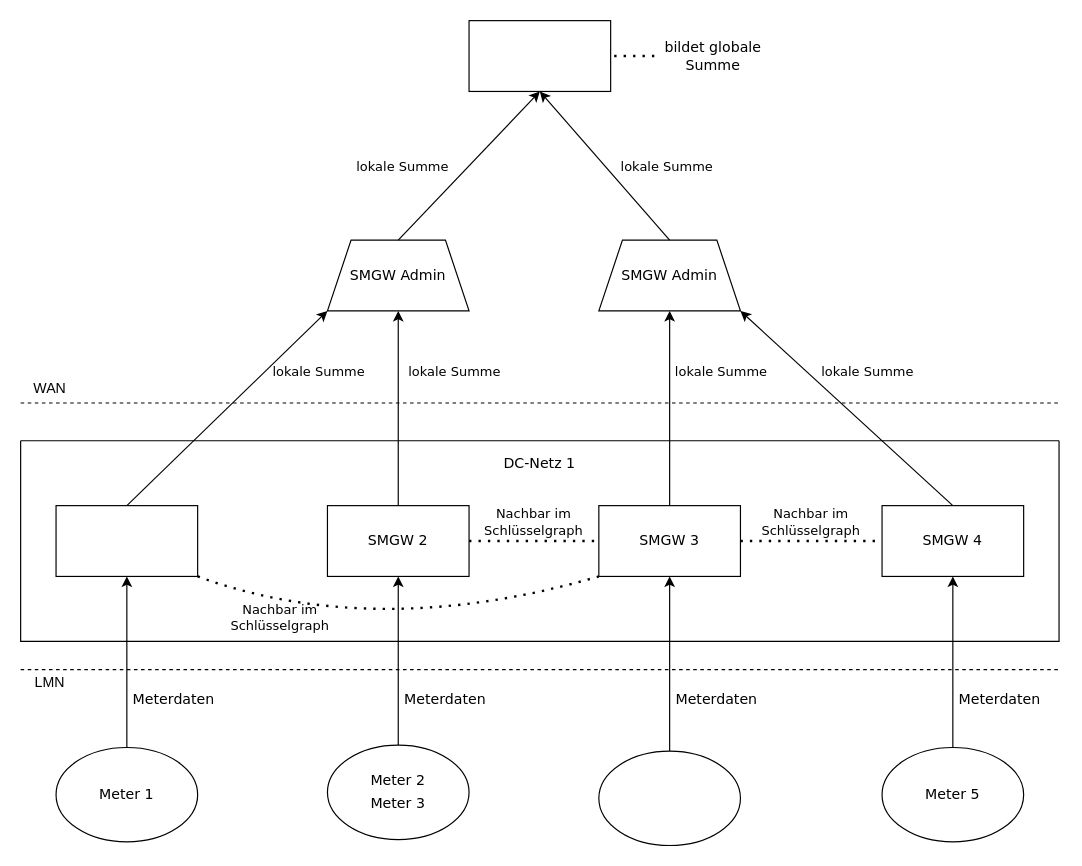
This 1082x866 diagram has some shape labels left out. Here are the shapes that lost their labels. From the top down, the box of each, then its label:
(468, 19, 611, 91): Stromanbieter
(55, 504, 198, 576): SMGW 1
(598, 750, 740, 845): Meter 4
